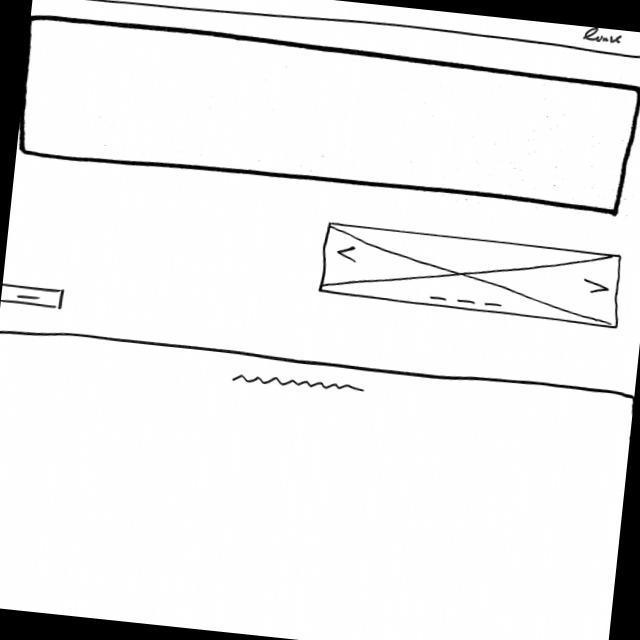container: (17, 14, 640, 218), (33, 1, 640, 62)
icon-button: (1, 281, 69, 312)
image: (313, 220, 628, 331)
label: (583, 27, 627, 46)
text: (232, 370, 369, 398)
